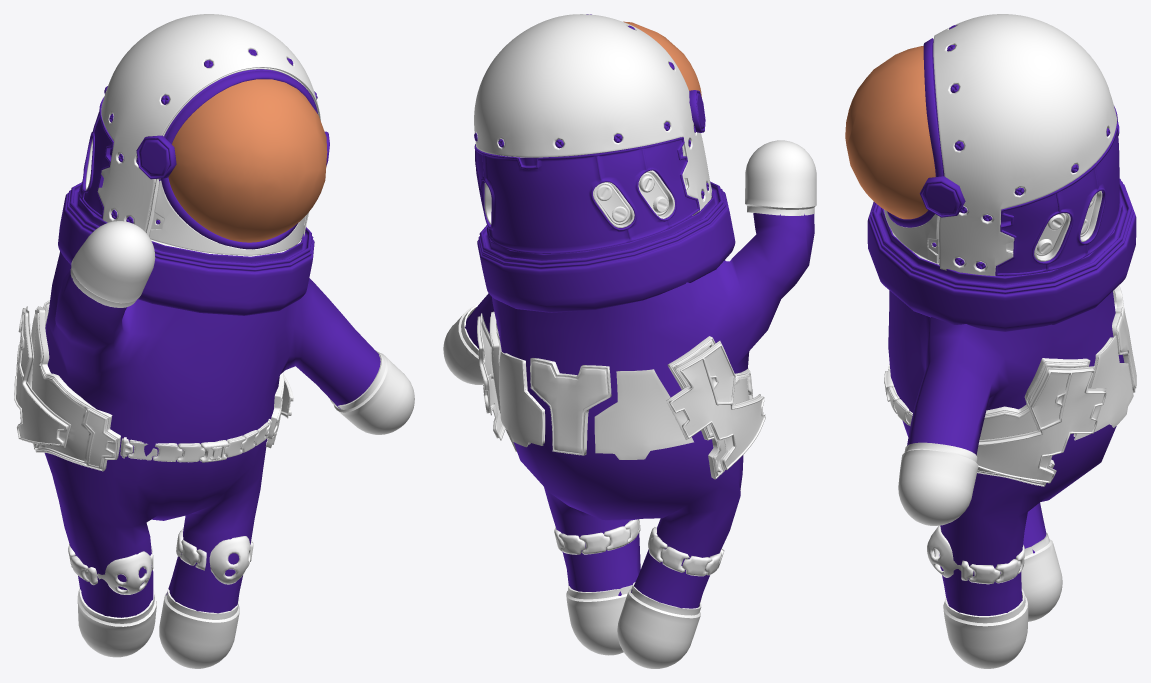
File: Darwie_low.glb
The picture shows the model from 3 angles, left to right: view 1: azimuth 30°, elevation 25°; view 2: azimuth 150°, elevation 25°; view 3: azimuth 270°, elevation 25°; orthographic projection. The views are drawn at different scales.
Visible parts, largest first — view 1: Body suit, Casco.003, Casco.002, Guantes y zapatos, Casco.001, Cintura Backpack, Rodilleras, Cintura Backpack.001, Casco.007, Casco.009, Casco.006, Casco.004; view 2: Body suit, Casco.002, Casco.006, Cintura Backpack, Casco.001, Guantes y zapatos, Cintura Backpack.001, Rodilleras, Casco.008, Casco.003; view 3: Casco.002, Body suit, Casco.001, Guantes y zapatos, Casco.003, Casco.006, Cintura Backpack.001, Cintura Backpack, Rodilleras, Casco.009, Casco.008, Casco.007 (+2 smaller).
Boxes of the visible parts, x1,y1,x2,y2 form: Body suit: (44, 216, 380, 617); Casco.003: (168, 79, 327, 242); Casco.002: (97, 14, 320, 236); Guantes y zapatos: (70, 221, 414, 668); Casco.001: (58, 182, 314, 315); Cintura Backpack: (28, 300, 284, 471); Rodilleras: (68, 528, 253, 594); Cintura Backpack.001: (14, 306, 293, 447); Casco.007: (146, 178, 306, 256); Casco.009: (161, 69, 318, 249); Casco.006: (79, 96, 113, 218); Casco.004: (136, 135, 176, 179); Body suit: (465, 213, 814, 608); Casco.002: (474, 14, 712, 215); Casco.006: (474, 137, 699, 253); Cintura Backpack: (489, 311, 753, 479); Casco.001: (477, 181, 735, 312); Guantes y zapatos: (443, 140, 816, 668); Cintura Backpack.001: (477, 313, 765, 471); Rodilleras: (554, 519, 724, 576); Casco.008: (484, 170, 674, 227); Casco.003: (623, 21, 701, 97); Casco.002: (933, 14, 1117, 275); Body suit: (888, 275, 1124, 615); Casco.001: (867, 179, 1136, 331); Guantes y zapatos: (898, 442, 1062, 668); Casco.003: (845, 46, 935, 219); Casco.006: (995, 106, 1121, 275); Cintura Backpack.001: (976, 366, 1106, 483); Cintura Backpack: (884, 285, 1136, 486); Rodilleras: (927, 525, 1024, 584); Casco.009: (886, 38, 944, 227); Casco.008: (1034, 191, 1102, 261); Casco.007: (884, 209, 940, 265).
Size of the model in its own units: 1.83 by 3.11 by 1.26.
